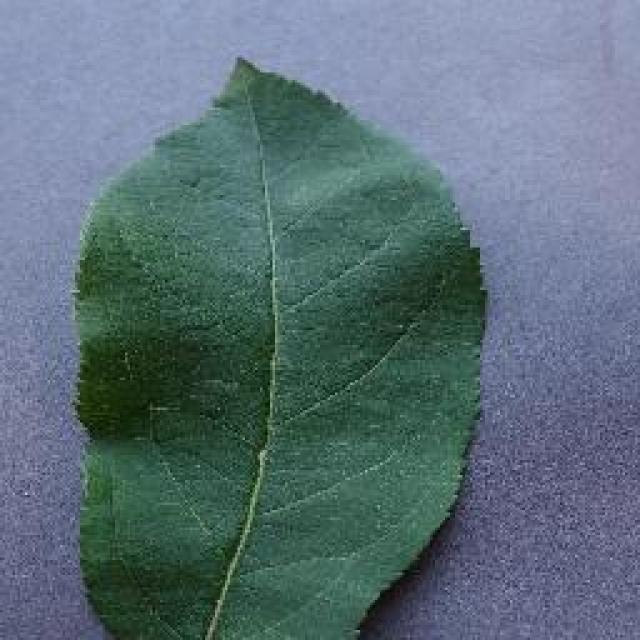apple healthy: (68, 52, 490, 638)
